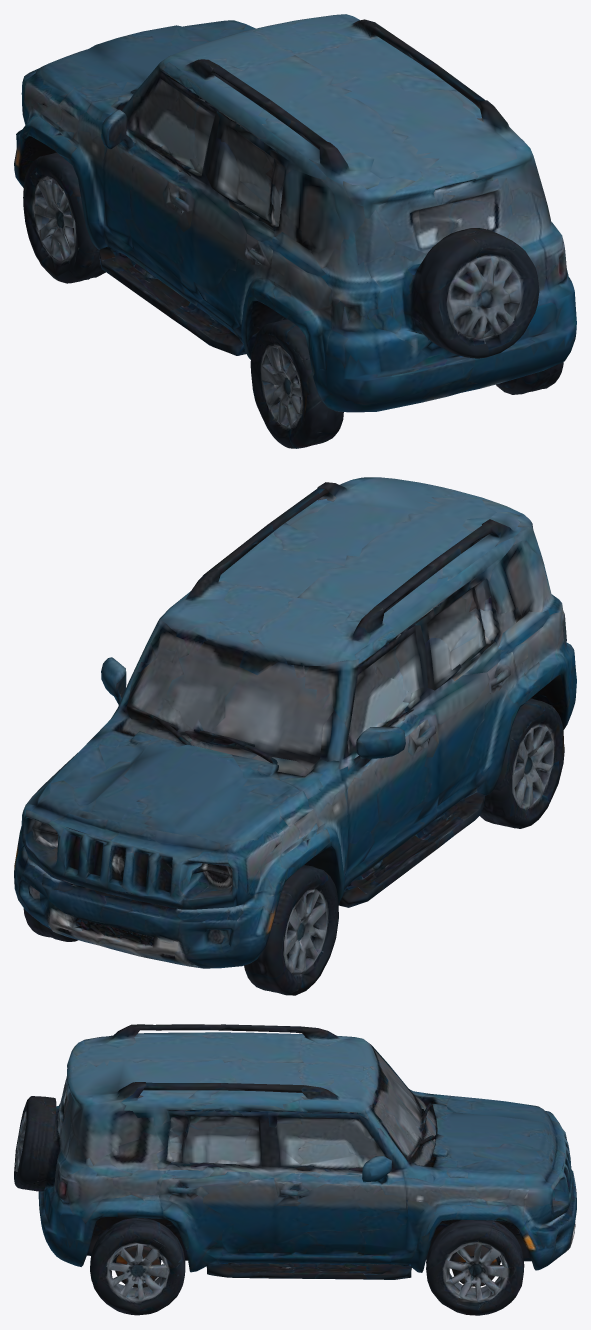
The model's file is suv.glb.
3 renders of one model, top to bottom at view 1: azimuth 30°, elevation 25°; view 2: azimuth 150°, elevation 25°; view 3: azimuth 270°, elevation 25°, orthographic. The views are drawn at different scales.
Size of the model in its own units: 0.8693 by 0.8075 by 1.9.
Materials: 1 (1 with a texture image).
